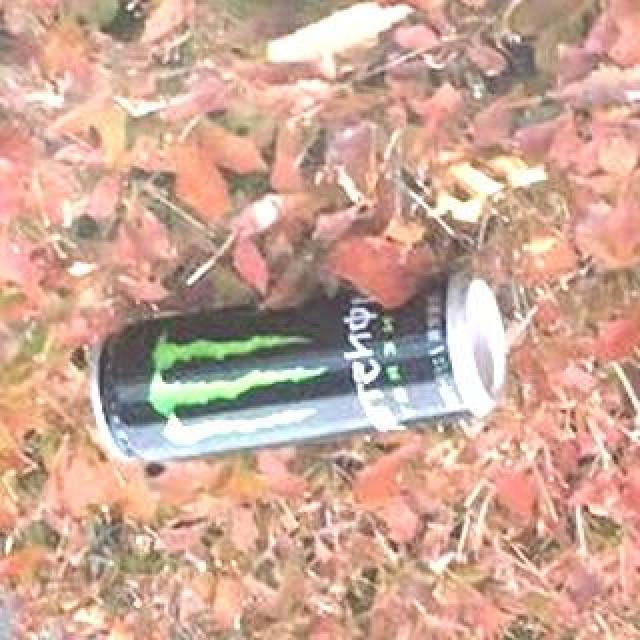Can: (81, 259, 529, 475)
